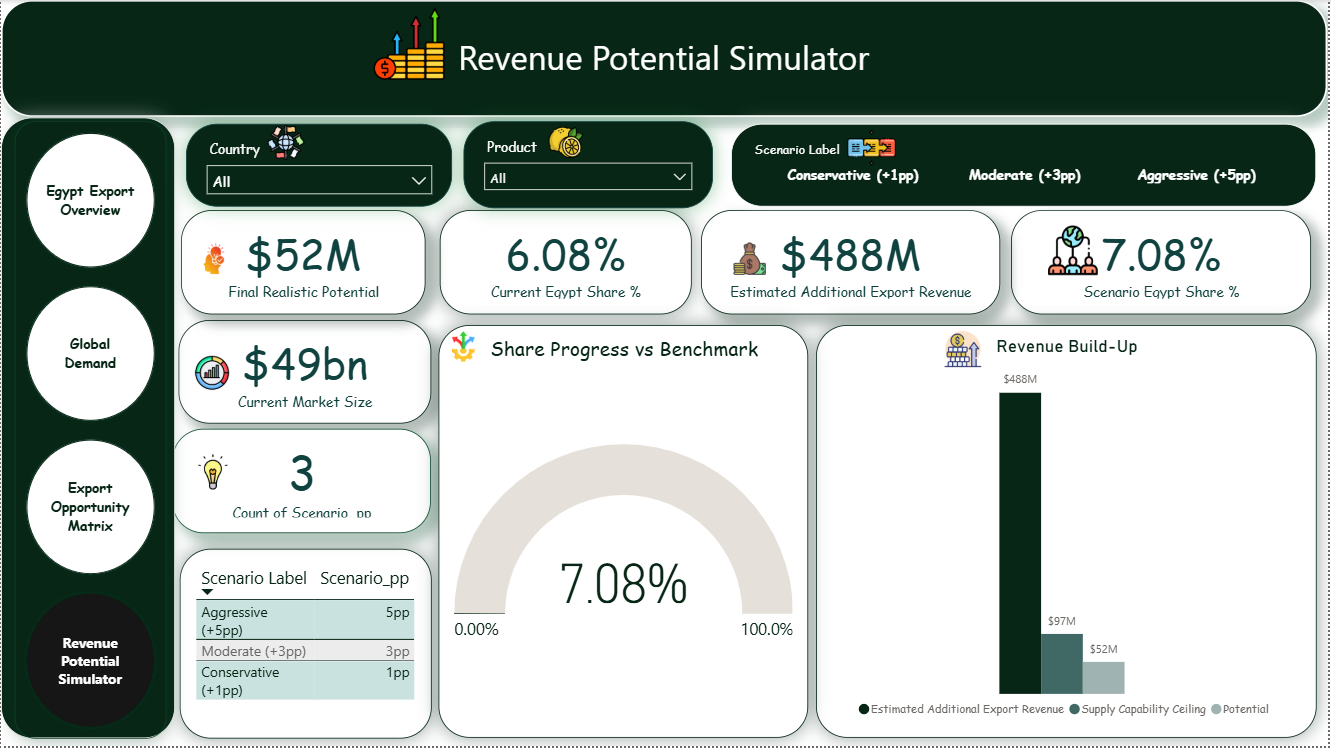

What the dashboard file says about the page in this screenshot:
{"tool":"powerbi","page":{"name":"Revenue Potential Simulator","canvas":[1280,720],"ordinal":3},"visuals":[{"type":"tableEx","fields":{"Values":["Market Capture Scenario.Scenario Label","Market Capture Scenario.Scenario_pp"]},"box":[172.5,529.6,243.2,182.9],"z":0},{"type":"card","fields":{"Values":["Opportunity_Matrix.Current Market Size"]},"box":[171.2,309.3,244.1,100.2],"z":1000},{"type":"card","fields":{"Values":["Opportunity_Matrix.Current Egypt Share %"]},"box":[423.1,203.3,243.2,101.2],"z":2000},{"type":"card","fields":{"Values":["CountNonNull(Market Capture Scenario.Scenario_pp)"]},"box":[165.3,414.3,250,101.2],"z":3000},{"type":"card","fields":{"Values":["Opportunity_Matrix.Scenario Egypt Share %"]},"box":[975,202.8,289.8,100.9],"z":4000},{"type":"card","fields":{"Values":["Opportunity_Matrix.Estimated Additional Export Revenue"]},"box":[675,203.3,288.9,101.2],"z":5000},{"type":"card","fields":{"Values":["Opportunity_Matrix.Final Realistic Potential"]},"box":[174.1,203.3,236.4,101.2],"z":6000},{"type":"textbox","box":[0,0,1280,112.9],"z":7000},{"type":"clusteredColumnChart","title":"Revenue Build-Up","fields":{"Y":["Opportunity_Matrix.Estimated Additional Export Revenue","Opportunity_Matrix.Supply Capability Ceiling","Opportunity_Matrix.Final Realistic Potential"]},"box":[786.6,313.1,483,398.5],"z":8000},{"type":"gauge","title":"Share Progress vs Benchmark","fields":{"MaxValue":["Max(Opportunity_Matrix.BenchmarkShare%)"],"Y":["Opportunity_Matrix.Scenario Egypt Share %"]},"box":[422.6,313.1,357.1,398.5],"z":9000},{"type":"textbox","box":[0,113,168.2,599.5],"z":10000},{"type":"pageNavigator","box":[12.9,116.4,146.6,596],"z":11000},{"type":"slicer","fields":{"Values":["Market Capture Scenario.Scenario Label"]},"box":[704.7,119.9,565,80.2],"z":12000},{"type":"slicer","fields":{"Values":["DIM_PRODUCT.Product"]},"box":[446.8,116.4,240.6,83.7],"z":13000},{"type":"slicer","fields":{"Values":["DIM_COUNTRY.Country"]},"box":[178.5,119.9,257,80.2],"z":14000},{"type":"image","box":[352.1,0,83.6,84.6],"z":15000},{"type":"image","box":[900.7,313.2,54.5,46.7],"z":16000},{"type":"image","box":[426,311.2,40.9,46.7],"z":17000},{"type":"image","box":[1004.7,212,59.3,58.4],"z":18000},{"type":"image","box":[181.9,334.6,43.8,50.6],"z":19000},{"type":"image","box":[181.9,229.5,46.7,40.9],"z":20000},{"type":"image","box":[523.3,114.8,43.8,45.7],"z":21000},{"type":"image","box":[699.3,229.5,45.7,40.9],"z":22000},{"type":"image","box":[175.1,430.9,59.3,49.6],"z":23000},{"type":"image","box":[801.5,112.8,78.8,58.4],"z":24000},{"type":"image","box":[242.2,114.8,65.2,45.7],"z":25000}]}

Visuals, with their boxes in screenshot pixels (x1, y1, x2, y2), scaled from the page's 1280x720 canvas onto the 1331x750 screenshot:
tableEx - Market Capture Scenario.Scenario Label x Market Capture Scenario.Scenario_pp: 179:552:432:742
card - Opportunity_Matrix.Current Market Size: 178:322:432:427
card - Opportunity_Matrix.Current Egypt Share %: 440:212:693:317
card - CountNonNull(Market Capture Scenario.Scenario_pp): 172:432:432:537
card - Opportunity_Matrix.Scenario Egypt Share %: 1014:211:1315:316
card - Opportunity_Matrix.Estimated Additional Export Revenue: 702:212:1002:317
card - Opportunity_Matrix.Final Realistic Potential: 181:212:427:317
textbox: 0:0:1330:118
"Revenue Build-Up" clusteredColumnChart: 818:326:1320:741
"Share Progress vs Benchmark" gauge: 439:326:811:741
textbox: 0:118:175:742
pageNavigator: 13:121:166:742
slicer - Market Capture Scenario.Scenario Label: 733:125:1320:208
slicer - DIM_PRODUCT.Product: 465:121:715:208
slicer - DIM_COUNTRY.Country: 186:125:453:208
image: 366:0:453:88
image: 937:326:993:375
image: 443:324:486:373
image: 1045:221:1106:282
image: 189:349:235:401
image: 189:239:238:282
image: 544:120:590:167
image: 727:239:775:282
image: 182:449:244:501
image: 833:118:915:178
image: 252:120:320:167
